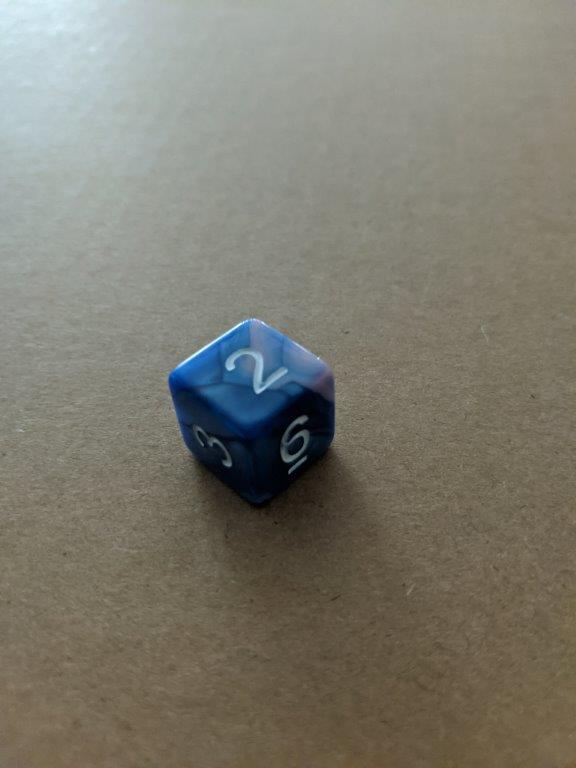d6-2: (167, 318, 337, 505)
